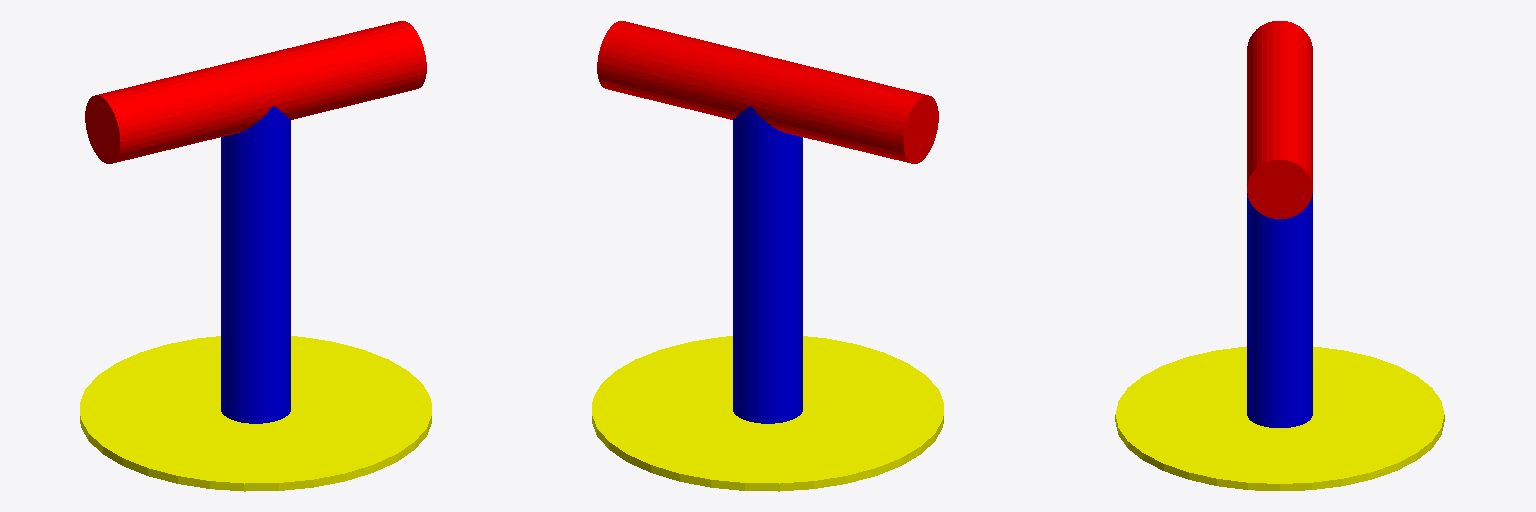
URDF robot description (arm):
<?xml version="1.0" encoding="utf-8" ?>
<!-- 1. 垂直地面方向为Z轴 -->
<!-- 2. xyz表示物体中心离参考坐标的平移(没有跟joint关联时参考坐标为world坐标系，有joint关联时参考坐标为parent link的link framework，注意不是parent link的visual的中心) -->
<!-- 3. rpy表示物体中心绕xyz轴的旋转 -->
<!-- 4. origin只是改变物体的位置和姿态，物体所在的link的坐标系没有改变 -->
<!-- 5. link - visual - origin修改的是自己相对参考坐标的位置和姿态，参考坐标没有改变；没有joint时都是参考的world坐标系；有joint时参考的是joint 的frame -->
<!-- 6. joint - origin修改的是参考系之间的位置和姿态 -->
<!-- 总结: 先看joint, 计算出parent link的frame作为参考系, 再看visual, 将visual中的origin叠加到参考系中 -->
<robot name="arm">
  <link name="base_link">
    <!-- base_link frame为world坐标原点 -->
    <visual>
      <origin xyz="0.0 0 0.0" rpy="0.0 0.0 0.0"/>
      <geometry>
        <cylinder length="0.01" radius="0.2"/>
      </geometry>
      <material name="yellow">
        <color rgba="1 1 0 1"/>
      </material>
    </visual>
  </link>

  <link name="pan_link">
    <visual>
      <origin xyz="0 0 0.0" rpy="0 0 0"/>
      <geometry>
        <cylinder length="0.4" radius="0.04"/>
      </geometry>
      <material name="red">
        <color rgba="0 0 1 1"/>
      </material>
    </visual>
  </link>

  <link name="tilt_link">
    <visual>
      <geometry>
        <cylinder length="0.4" radius="0.04"/>
      </geometry>
      <origin xyz="0 0 0" rpy="0 1.5708 0"/>
      <material name="green">
        <color rgba="1 0 0 1"/>
      </material>
    </visual>
  </link>

  <joint name="pan_joint" type="revolute">
    <limit effort="1000.0" lower="0.0" upper="3.1415926" velocity="0.5"/>
    <parent link="base_link"/>
    <child link="pan_link"/>
    <origin xyz="0 0 0.2" rpy="0 0 -0.7854"/>
    <axis xyz="0 0 1"/>
  </joint>

  <joint name="tilt_joint" type="revolute">
    <limit effort="1000.0" lower="0.0" upper="0.548" velocity="0.5"/>
    <parent link="pan_link"/>
    <child link="tilt_link"/>
    <origin xyz="0 0 0.2" rpy="0 0 0.7854"/>
    <axis xyz="0 0 1" />
  </joint>
</robot>

--- What the picture shows (computed from the rendered views, not written in the file) ---
The picture shows the robot from 3 angles, left to right: view 1: azimuth 30°, elevation 25°; view 2: azimuth 150°, elevation 25°; view 3: azimuth 270°, elevation 25°; orthographic projection.
Model arm with 3 links and 2 joints (2 revolute), rooted at base_link, posed every joint at zero.
Links seen in each view (by area): view 1: base_link, tilt_link, pan_link; view 2: base_link, tilt_link, pan_link; view 3: base_link, pan_link, tilt_link.
Link boxes in pixels (x1,y1,x2,y2): base_link: [80, 336, 431, 491]; tilt_link: [85, 21, 426, 163]; pan_link: [221, 106, 290, 423]; base_link: [592, 336, 943, 491]; tilt_link: [597, 21, 938, 163]; pan_link: [733, 106, 802, 423]; base_link: [1115, 346, 1444, 490]; pan_link: [1247, 193, 1312, 427]; tilt_link: [1247, 21, 1312, 218].
Size in the robot's own frame: 0.4 by 0.4 by 0.445 metres.
Geometry: primitives only (box / cylinder / sphere), no mesh files.
